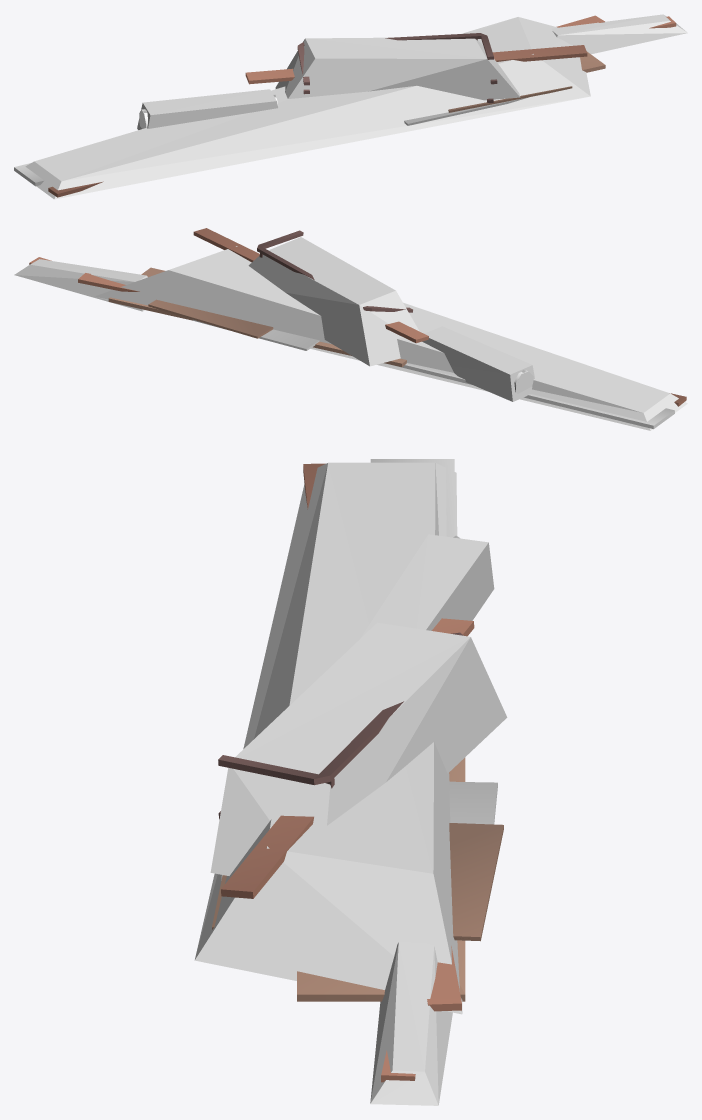
File: port_scrap2.dae
The picture shows the model from 3 angles, top to bottom: view 1: azimuth 30°, elevation 25°; view 2: azimuth 150°, elevation 25°; view 3: azimuth 270°, elevation 25°; orthographic projection. The views are drawn at different scales.
Parts seen in each view (by area): view 1: Colmesh-1, port_scrap2_a150; view 2: Colmesh-1, port_scrap2_a150; view 3: Colmesh-1, port_scrap2_a150.
Boxes of the visible parts, left/top/right/bottom form: Colmesh-1: left=25, top=14, right=687, bottom=199; port_scrap2_a150: left=14, top=15, right=676, bottom=197; Colmesh-1: left=14, top=237, right=687, bottom=430; port_scrap2_a150: left=29, top=228, right=686, bottom=429; Colmesh-1: left=194, top=462, right=507, bottom=1105; port_scrap2_a150: left=212, top=459, right=503, bottom=1082.
Bounding box in the file's own units: 5.49 × 1.16 × 0.5138.
